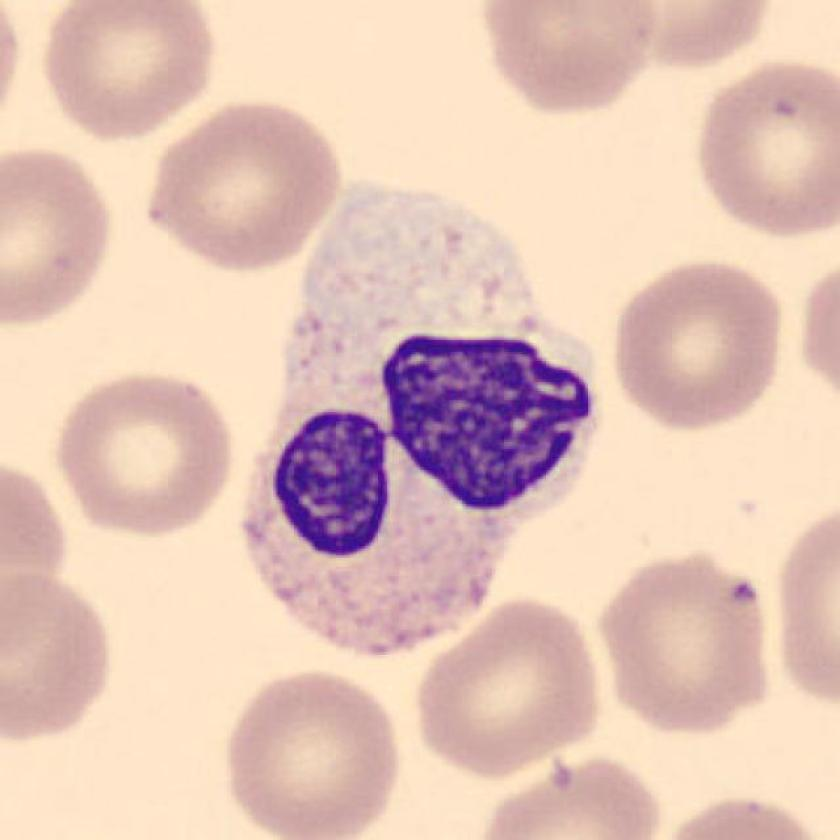neutrophil: (241, 178, 593, 657)
